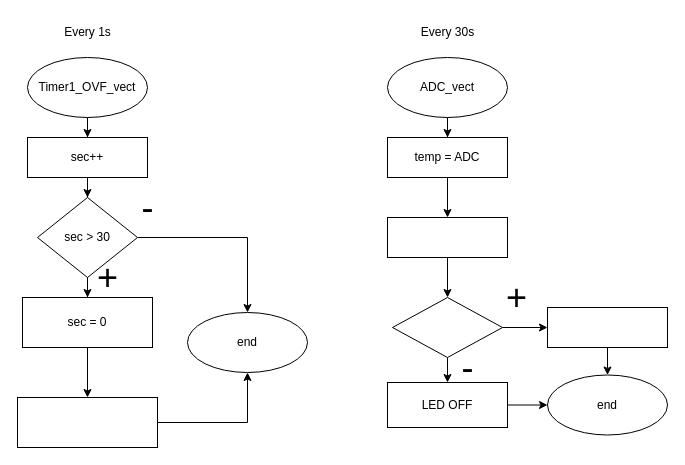
The diagram is 685 pixels wide and 465 high, and some of its shapes have lost their labels. The box of each missing label's shape, as (x1, y1, x2, y2) in pixels:
ADCSRA |= (1<<ADSC);: (16, 396, 158, 448)
display temp: (386, 216, 508, 258)
LED ON: (546, 306, 668, 348)
temp > 30: (392, 296, 502, 358)
